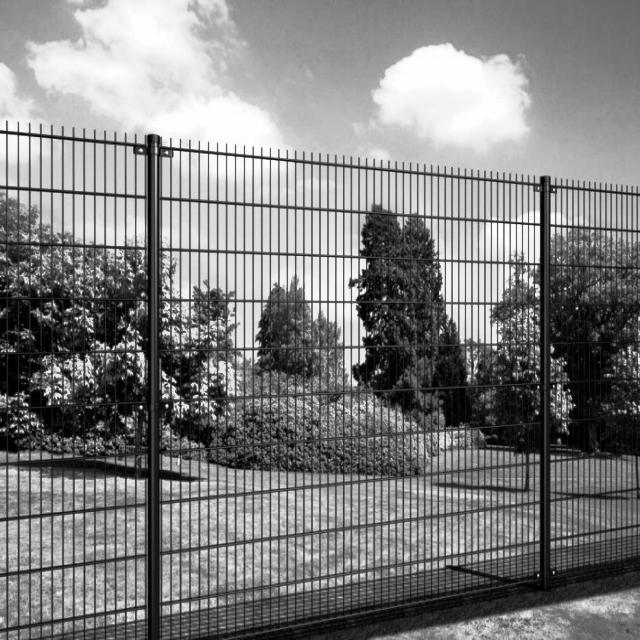fences: (0, 115, 640, 592)
